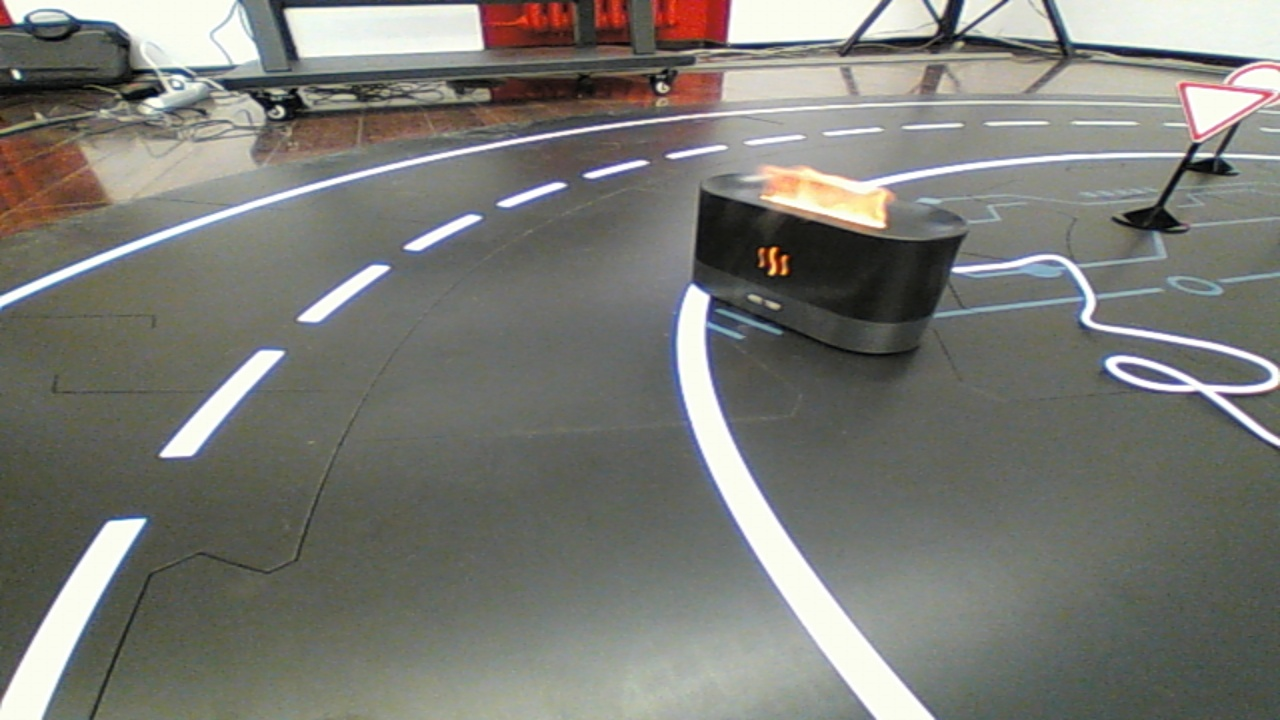Movement prohibition: (660, 146, 993, 365)
